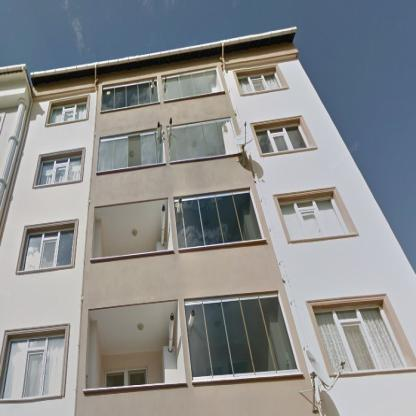window: (185, 297, 297, 378), (315, 308, 404, 372), (175, 191, 264, 248), (1, 335, 64, 399), (167, 120, 240, 162), (280, 197, 346, 240), (97, 132, 163, 171), (23, 228, 75, 270), (162, 68, 223, 100), (102, 80, 158, 110), (256, 126, 309, 154), (37, 155, 82, 184), (237, 72, 281, 93), (50, 101, 87, 123), (107, 372, 145, 388)
